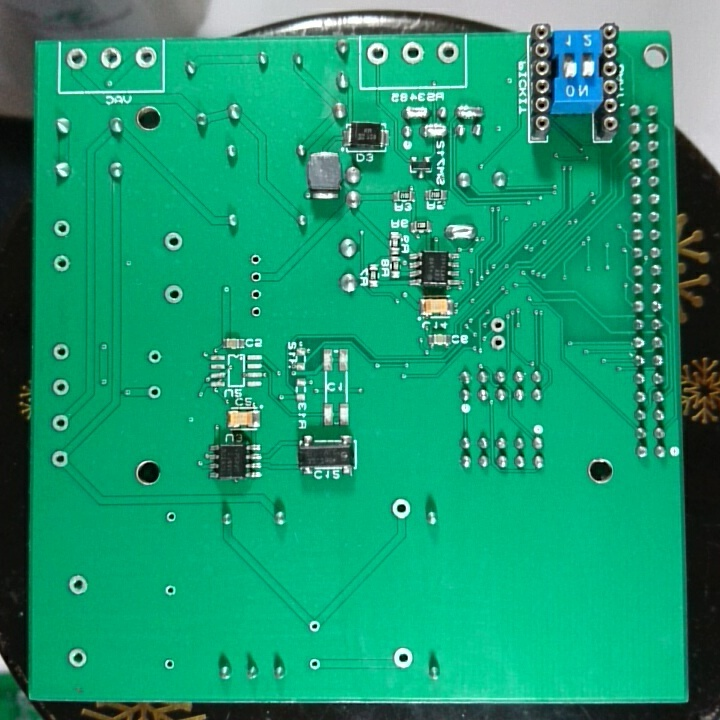F: (363, 39, 391, 69), (433, 38, 462, 66), (399, 39, 428, 66), (97, 46, 125, 73), (63, 46, 90, 72), (132, 44, 158, 71), (65, 645, 91, 672), (388, 496, 415, 521), (65, 572, 90, 598), (391, 645, 415, 671), (47, 446, 71, 470), (161, 229, 185, 253), (49, 376, 74, 399), (49, 340, 73, 363), (162, 282, 185, 306), (48, 412, 72, 434), (51, 218, 74, 240), (51, 252, 73, 275), (145, 347, 165, 369), (488, 332, 509, 352), (246, 302, 265, 323), (162, 507, 181, 527), (488, 315, 508, 334), (162, 580, 179, 602), (160, 655, 178, 674), (305, 617, 324, 635), (306, 655, 324, 673), (248, 284, 265, 303), (146, 382, 162, 402), (248, 268, 265, 286), (246, 251, 264, 267)
P: (443, 221, 477, 243), (453, 101, 487, 121), (419, 120, 448, 143), (400, 103, 431, 121)
